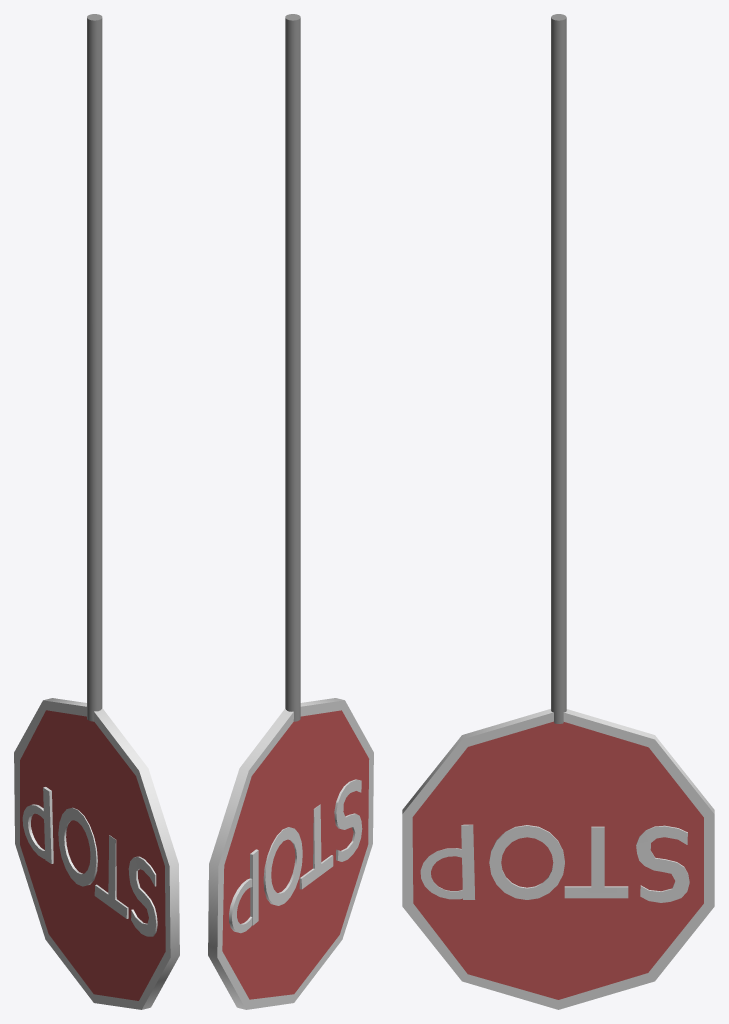
File: Stop.fbx
The picture shows the model from 3 angles, left to right: view 1: azimuth 30°, elevation 25°; view 2: azimuth 150°, elevation 25°; view 3: azimuth 270°, elevation 25°; orthographic projection.
Visible parts, largest first — view 1: pCylinder5; view 2: pCylinder5; view 3: pCylinder5.
Part boxes in pixels (x1=…): pCylinder5: x1=14, y1=14, x2=179, y2=1009; pCylinder5: x1=208, y1=14, x2=373, y2=1009; pCylinder5: x1=402, y1=14, x2=714, y2=1009.
Bounding box in the file's own units: 0.6439 × 38.24 × 10.94.
